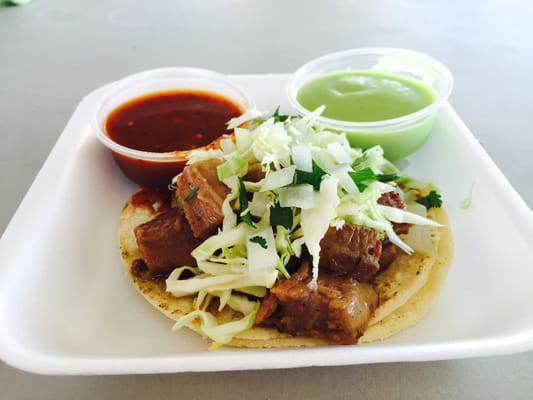soup: (115, 109, 456, 349)
sushi: (286, 46, 455, 161), (95, 67, 252, 189)
